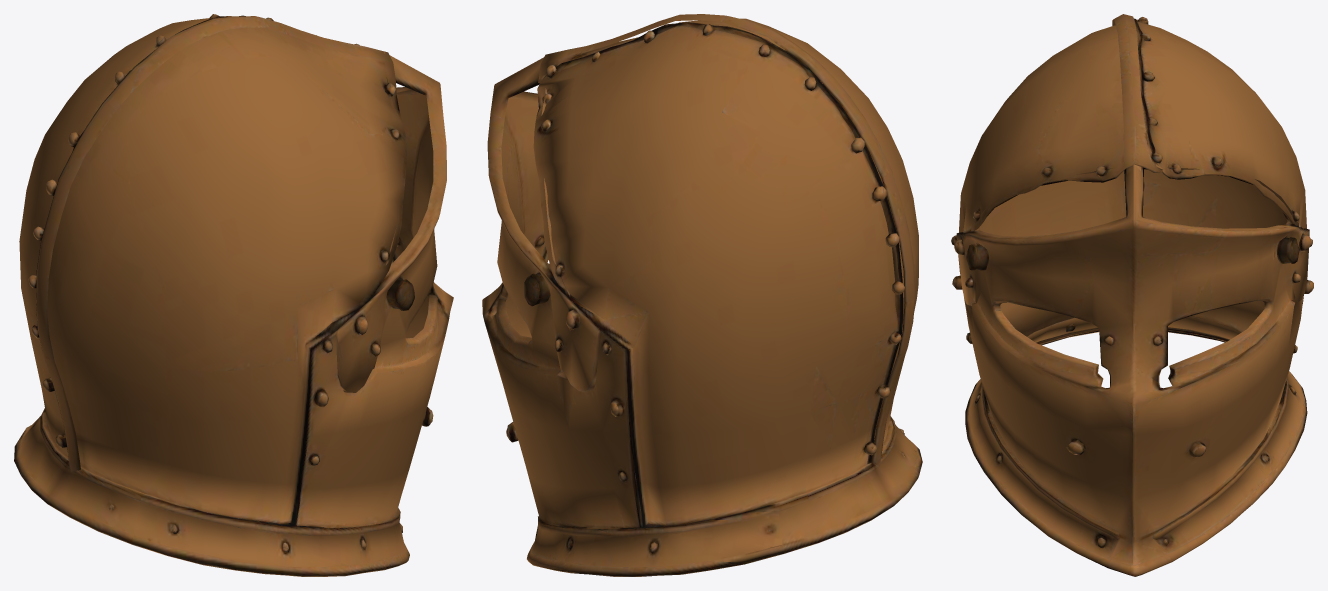
The model's file is bronze_full_helm.glb.
3 views of the same model, side by side, from view 1: azimuth 30°, elevation 25°; view 2: azimuth 150°, elevation 25°; view 3: azimuth 270°, elevation 25° (orthographic). The views are drawn at different scales.
Visible parts, largest first — view 1: tripo_node_af3596da-f39c-445c-85cb-942779934b46; view 2: tripo_node_af3596da-f39c-445c-85cb-942779934b46; view 3: tripo_node_af3596da-f39c-445c-85cb-942779934b46.
Part boxes in pixels (x1,y1,x2,y2): tripo_node_af3596da-f39c-445c-85cb-942779934b46: (14, 14, 453, 576); tripo_node_af3596da-f39c-445c-85cb-942779934b46: (482, 14, 922, 576); tripo_node_af3596da-f39c-445c-85cb-942779934b46: (951, 14, 1313, 576).
Bounding box in the file's own units: 0.5331 × 0.6863 × 0.4761.
1 material, 1 textured.
